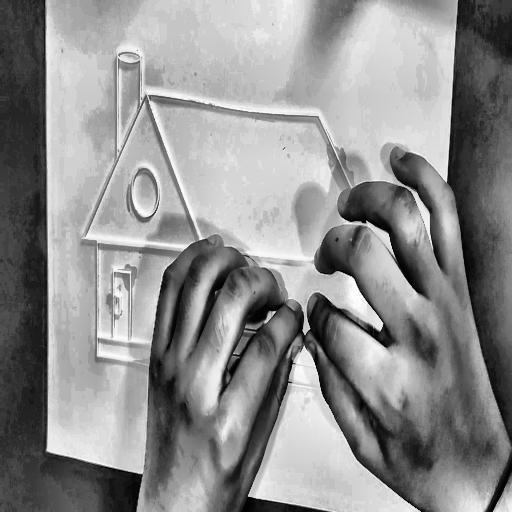bottom_left: (42, 443, 50, 458)
house: (75, 25, 415, 429)
